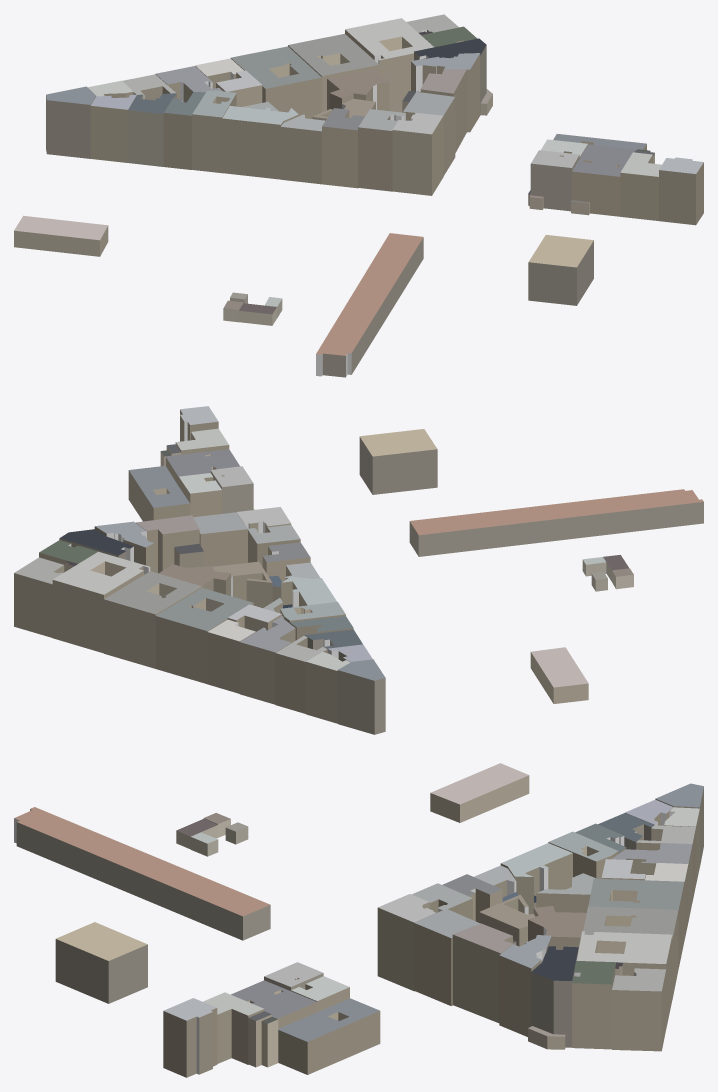
3 views of the same model, one above another, from view 1: azimuth 30°, elevation 25°; view 2: azimuth 150°, elevation 25°; view 3: azimuth 270°, elevation 25° (orthographic). The views are drawn at different scales.
Visible parts, largest first — view 1: tuile; view 2: tuile; view 3: tuile.
Part boxes in pixels (x1,y1,x2,y2): tuile: (14, 14, 703, 377); tuile: (14, 406, 703, 734); tuile: (14, 763, 703, 1077).
Size of the model in its own units: 240 by 28.77 by 234.
